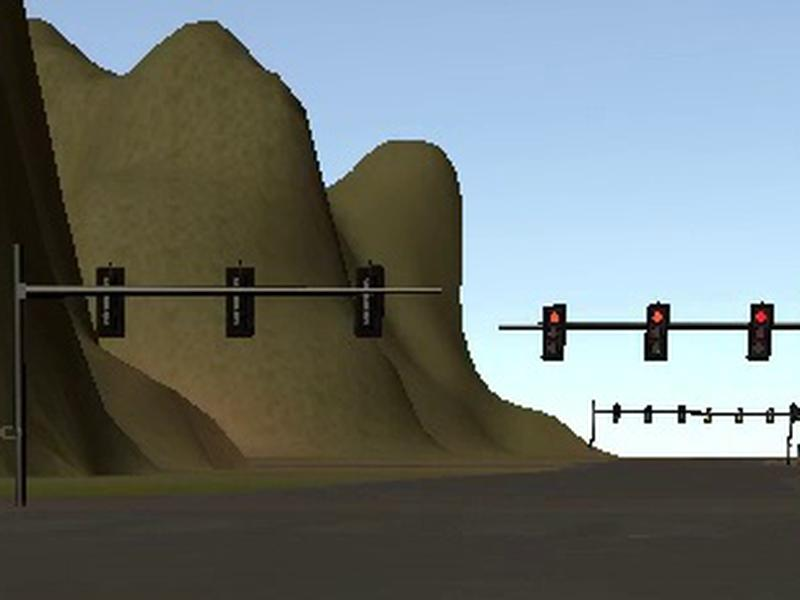Red: (748, 302, 774, 361), (541, 303, 566, 361), (646, 303, 671, 361)
